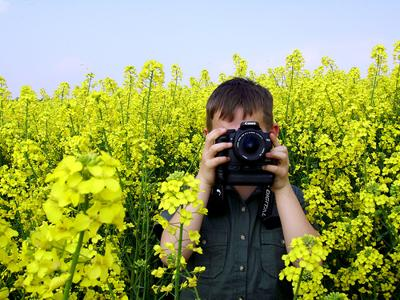person: (159, 78, 323, 298)
